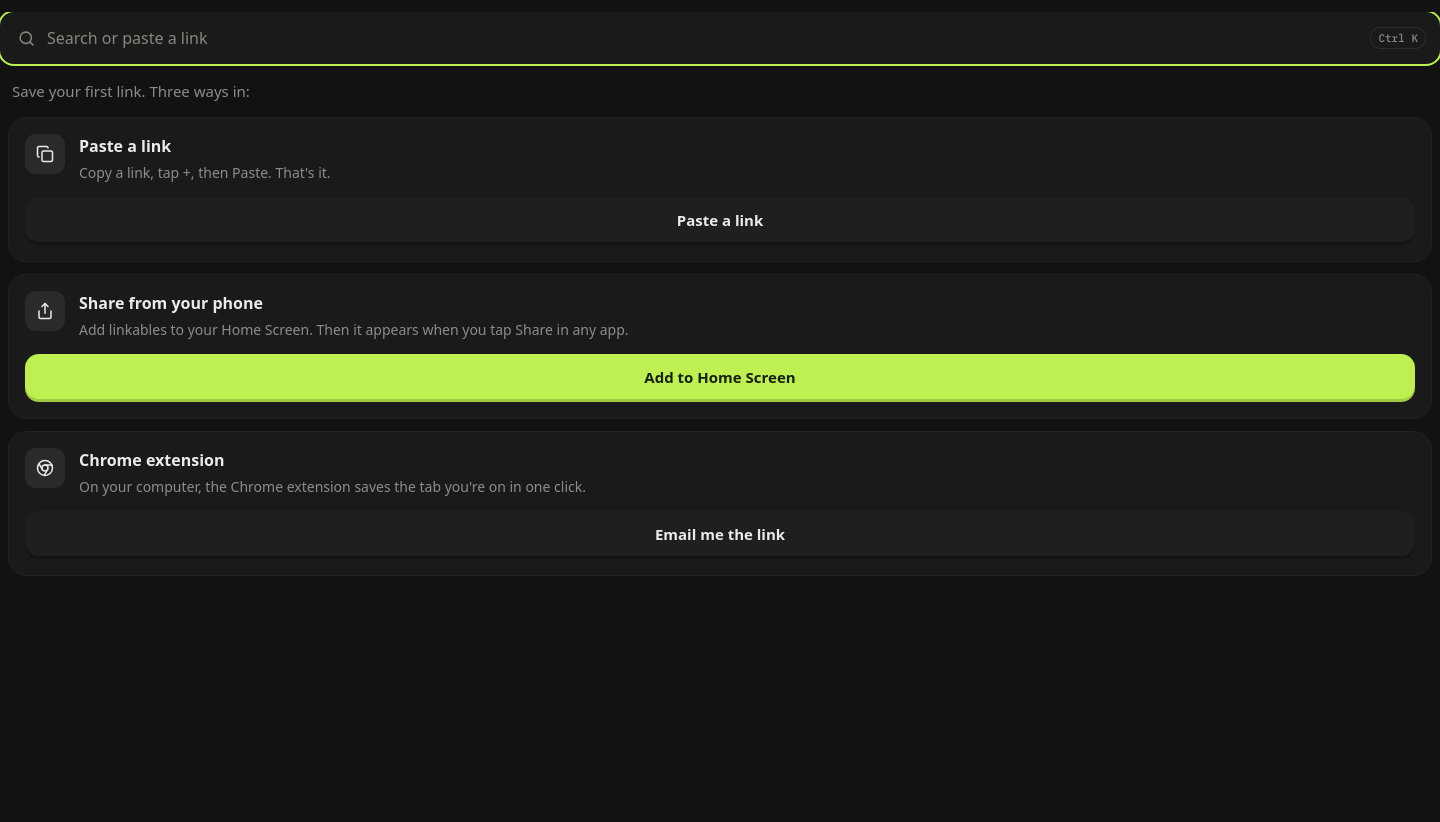
Test: SaveBar › toasts a rate limit and removes the pending row
Expected: the heading "Save your first link. Three ways in:" is shown, [12, 81, 250, 101]
Type "https://example.com/y" into the field named "Search or paste a link". click: (703, 38)
box: [47, 12, 1358, 64]
Then press Enter
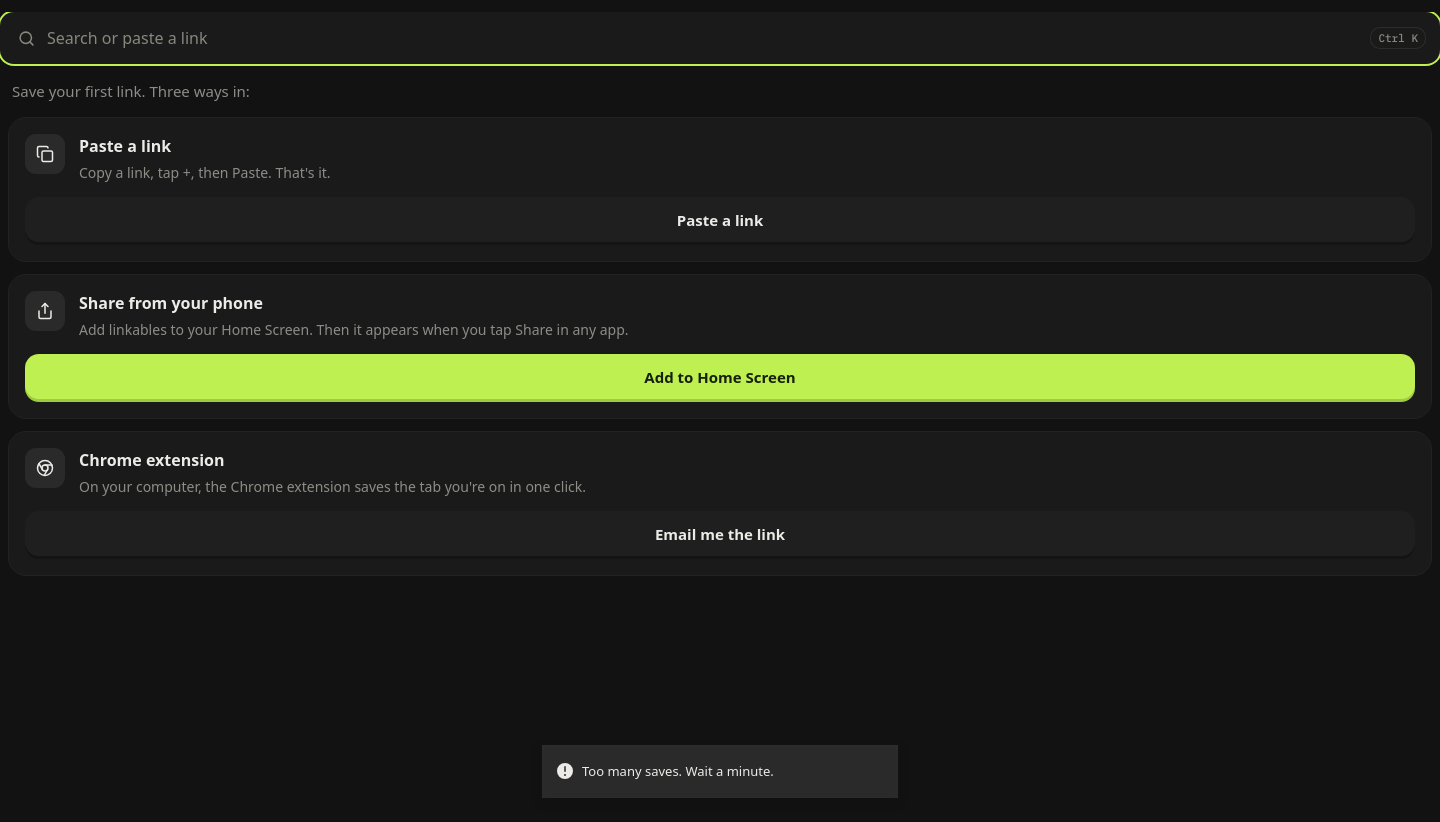
Result: the text "Too many saves. Wait a minute." is shown at [582, 762, 774, 781]
